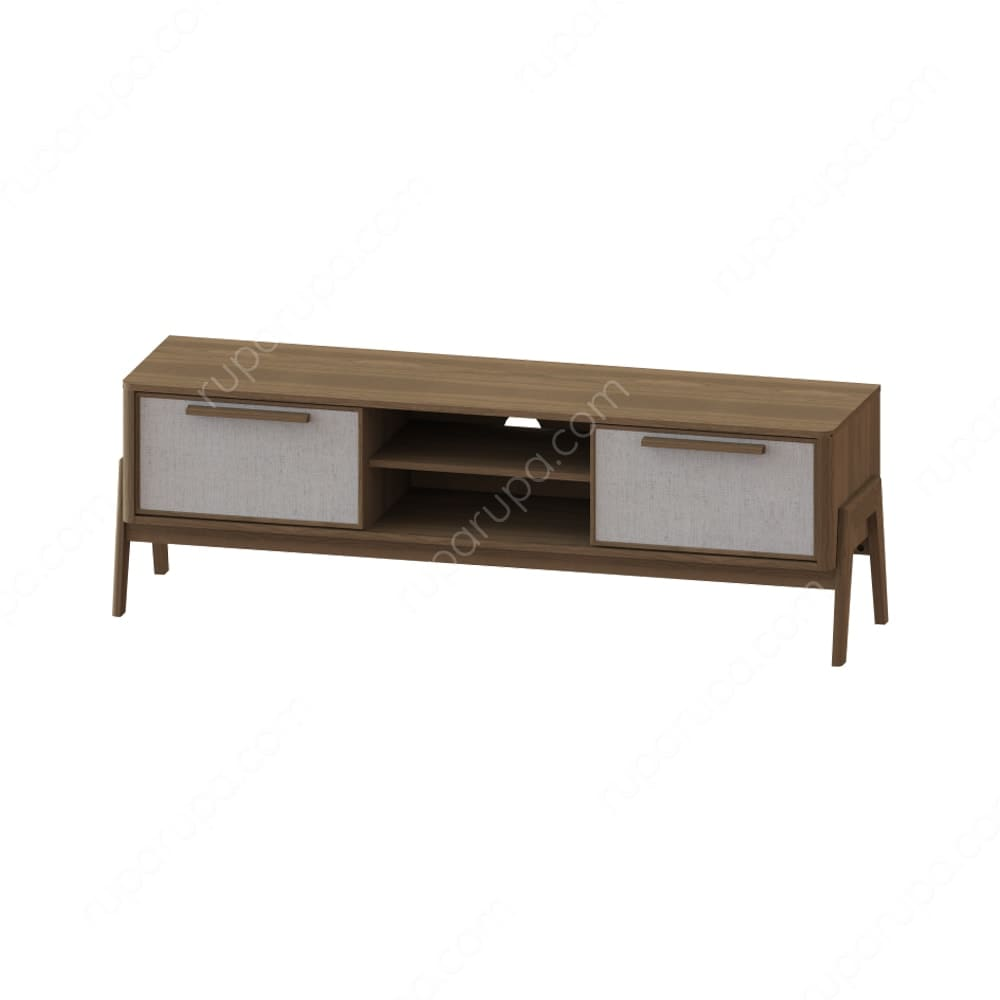meja: (58, 297, 923, 725)
